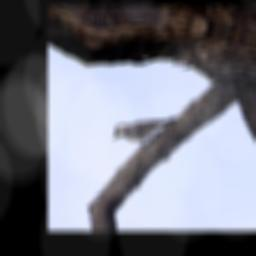Woodpecker: (107, 103, 180, 157)
